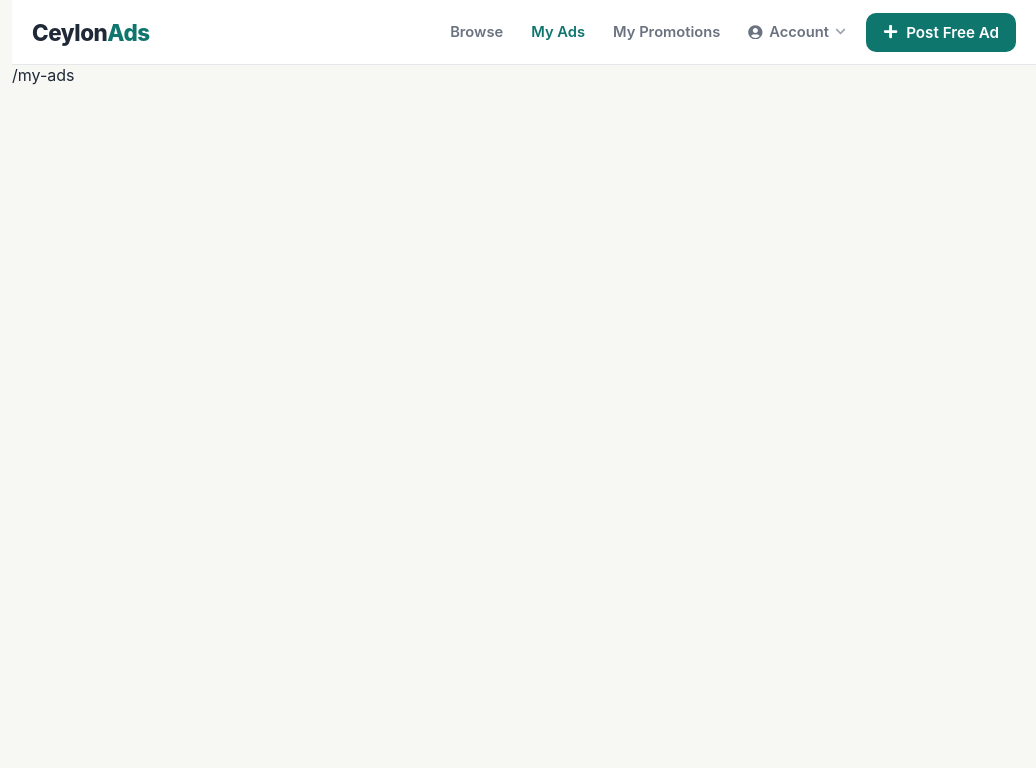
Test: Header - authenticated desktop › closes the dropdown when clicking outside
Click the button "Account": (797, 32) [744,15,850,49]
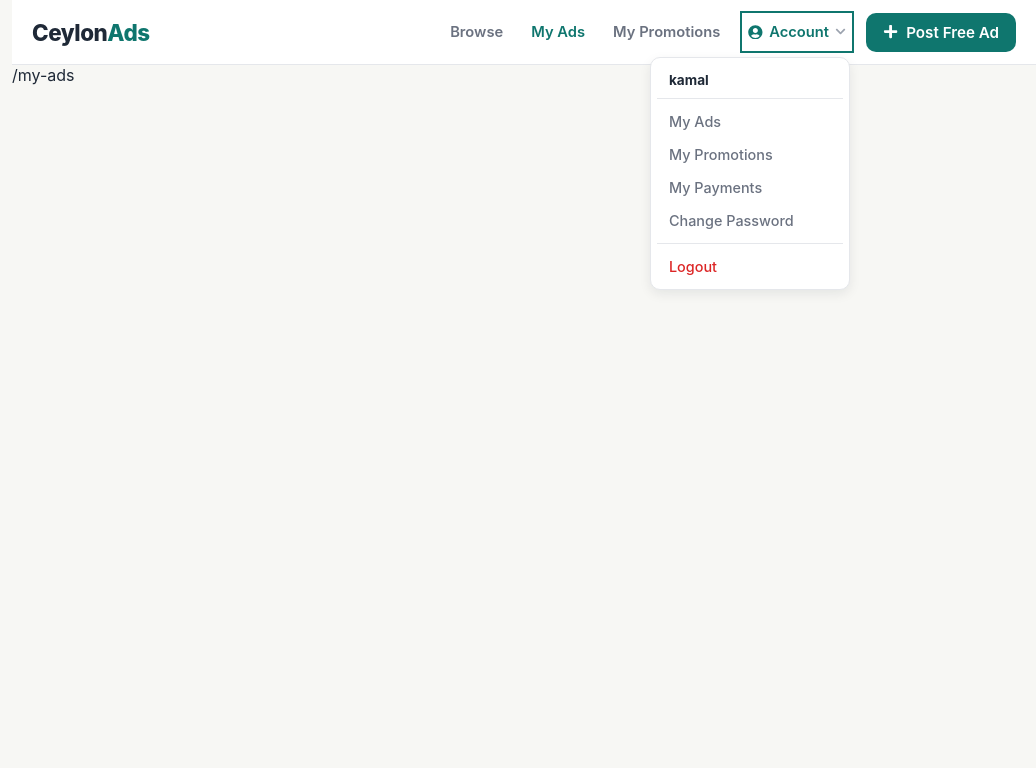
Check: the menu is shown, box [650,57,850,290]
Click the element that starts with "Ceylon": (524, 384) [12,0,1035,767]
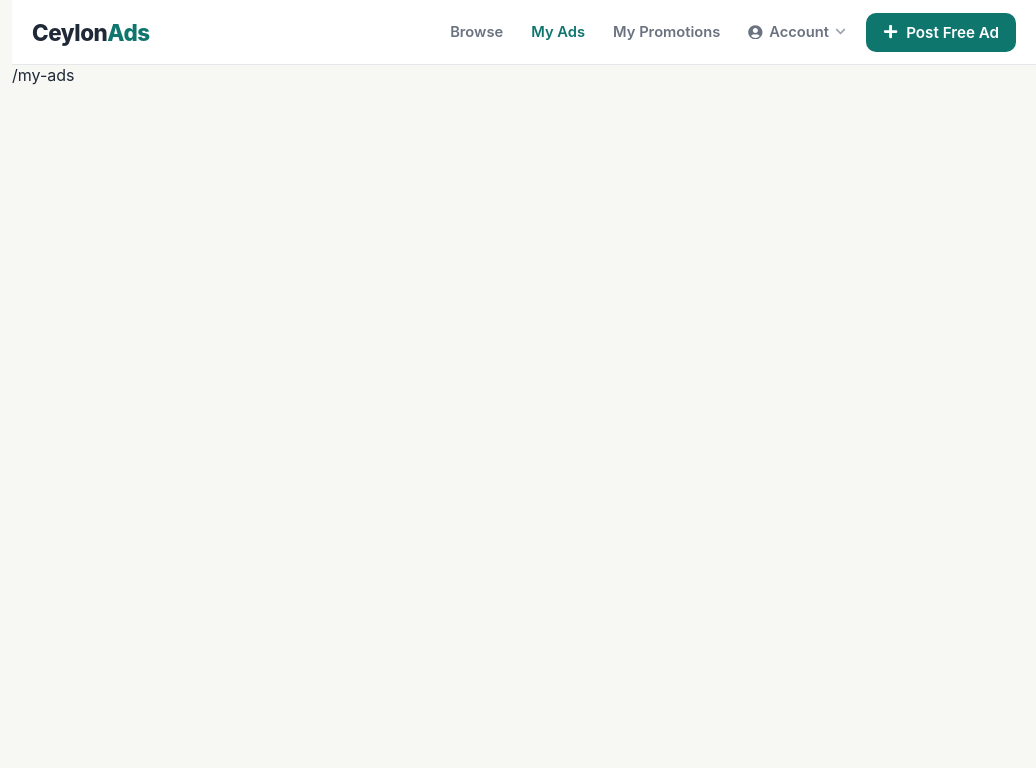
Check: the menu is gone
